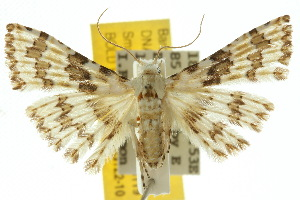Alucitidae: (3, 11, 296, 190)
moth: (1, 9, 294, 188)
